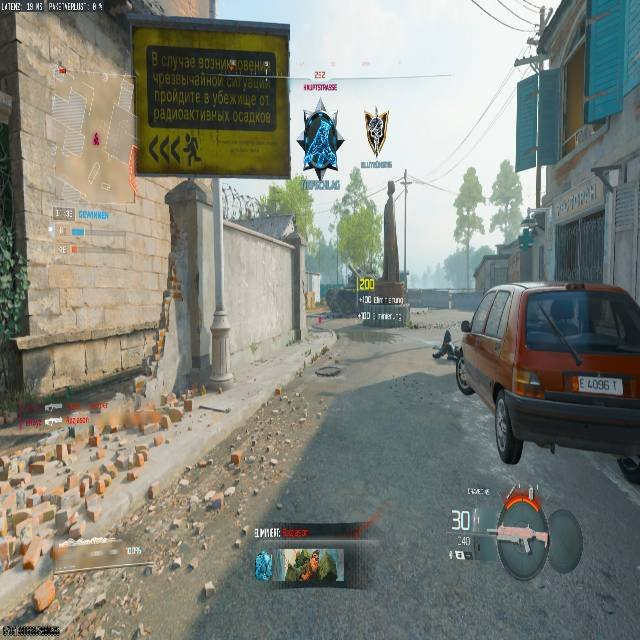head: (443, 330, 452, 343)
player: (298, 103, 341, 178), (363, 106, 388, 155)
